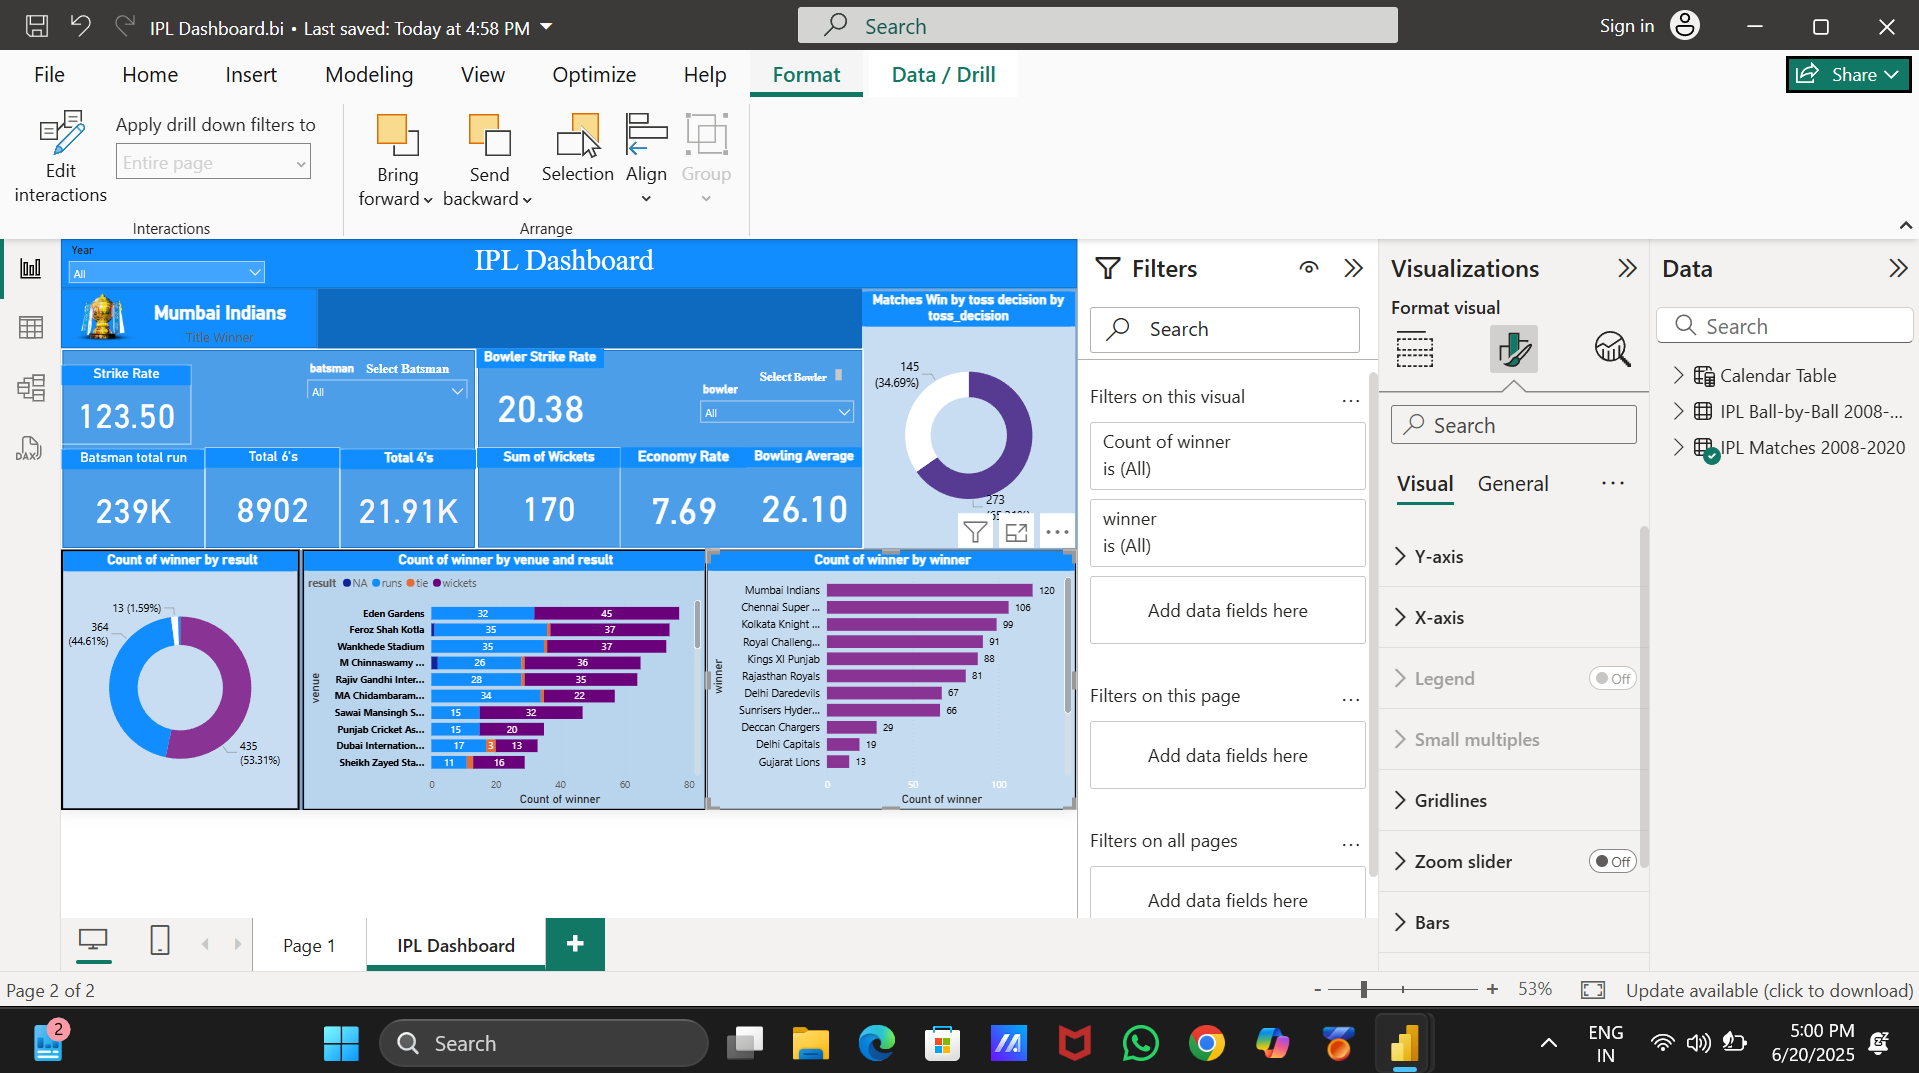

What the dashboard file says about the page in this screenshot:
{"tool":"powerbi","page":{"name":"IPL Dashboard","canvas":[1280,720],"ordinal":1},"visuals":[{"type":"shape","box":[523.3,138.4,488.3,252.9],"z":0},{"type":"shape","box":[0,138,523.5,253.2],"z":1000},{"type":"shape","box":[0,62,322.9,74.8],"z":2000},{"type":"shape","box":[0,0,1280.4,62],"z":3000},{"type":"textbox","box":[359.5,0,548.8,62],"z":4000},{"type":"slicer","fields":{"Values":["Calendar Table.Year"]},"box":[0,0,266.5,62.4],"z":5000},{"type":"card","fields":{"Values":["Calendar Table.Title Winner"]},"box":[77.9,65.2,245,71.6],"z":6000},{"type":"image","box":[0,31.8,103.4,138.4],"z":7000},{"type":"textbox","box":[368.5,149.3,136.1,39.7],"z":8000},{"type":"slicer","fields":{"Values":["IPL Ball-by-Ball 2008-2020.batsman"]},"box":[300.5,149.3,221.1,51],"z":9000},{"type":"slicer","fields":{"Values":["IPL Ball-by-Ball 2008-2020.bowler"]},"box":[795.3,176.6,213.1,62],"z":10000},{"type":"textbox","box":[863.6,158.7,124.7,24.6],"z":11000},{"type":"card","title":"Batsman total run","fields":{"Values":["Calendar Table.Batsman Total Run"]},"box":[0,264,181.3,127.2],"z":12000},{"type":"card","title":"Total 6''s","fields":{"Values":["CountNonNull(IPL Ball-by-Ball 2008-2020.batsman_runs)"]},"box":[181.3,262.5,170.2,128.8],"z":13000},{"type":"card","title":"Total 4''s","fields":{"Values":["CountNonNull(IPL Ball-by-Ball 2008-2020.batsman_runs)"]},"box":[351.5,264,171.8,127.2],"z":14000},{"type":"card","title":"Strike Rate","fields":{"Values":["Calendar Table.Strike Rate"]},"box":[0,159.1,163.8,100.2],"z":15000},{"type":"card","title":"Sum of Wickets","fields":{"Values":["Sum(IPL Ball-by-Ball 2008-2020.is_wicket)"]},"box":[523.3,262.5,181.3,127.2],"z":16000},{"type":"card","title":"Economy Rate","fields":{"Values":["Calendar Table.Bowler Economy Rate"]},"box":[704.6,262.5,159.1,128.8],"z":17000},{"type":"card","title":"Bowling Average","fields":{"Values":["Calendar Table.Bowler1"]},"box":[863.6,262.7,145.5,122.8],"z":18000},{"type":"card","title":"Bowler Strike Rate","fields":{"Values":["Calendar Table.Bowler Strike Rate"]},"box":[523.5,138,160.6,120.9],"z":19000},{"type":"donutChart","fields":{"Y":["Calendar Table.Matches Win by toss decision"],"Category":["IPL Matches 2008-2020.toss_decision"]},"box":[1009.1,66.1,268.3,323.2],"z":20000},{"type":"donutChart","fields":{"Y":["CountNonNull(IPL Matches 2008-2020.winner)"],"Category":["IPL Matches 2008-2020.result"]},"box":[0,391.2,300.5,328.8],"z":21000},{"type":"barChart","fields":{"Series":["IPL Matches 2008-2020.result"],"Y":["CountNonNull(IPL Matches 2008-2020.winner)"],"Category":["IPL Matches 2008-2020.venue"]},"box":[304.3,391.2,508.4,328.8],"z":22000},{"type":"clusteredBarChart","fields":{"Y":["CountNonNull(IPL Matches 2008-2020.winner)"],"Category":["IPL Matches 2008-2020.winner"]},"box":[812.6,391.2,466.8,328.8],"z":23000},{"type":"textbox","box":[323.2,62.4,686,75.6],"z":23001}]}

Visuals, with their boxes on the page's 1280x720 design canvas (x1, y1, x2, y2). These are canvas units, not pixel positions in the 1919x1073 screenshot, which may show the page scaled, cropped or inside an application window:
shape: 523/138/1012/391
shape: 0/138/524/391
shape: 0/62/323/137
shape: 0/0/1280/62
textbox: 360/0/908/62
slicer - Calendar Table.Year: 0/0/266/62
card - Calendar Table.Title Winner: 78/65/323/137
image: 0/32/103/170
textbox: 368/149/505/189
slicer - IPL Ball-by-Ball 2008-2020.batsman: 300/149/522/200
slicer - IPL Ball-by-Ball 2008-2020.bowler: 795/177/1008/239
textbox: 864/159/988/183
"Batsman total run" card: 0/264/181/391
"Total 6''s" card: 181/262/352/391
"Total 4''s" card: 352/264/523/391
"Strike Rate" card: 0/159/164/259
"Sum of Wickets" card: 523/262/705/390
"Economy Rate" card: 705/262/864/391
"Bowling Average" card: 864/263/1009/386
"Bowler Strike Rate" card: 524/138/684/259
donutChart - Calendar Table.Matches Win by toss decision x IPL Matches 2008-2020.toss_decision: 1009/66/1277/389
donutChart - CountNonNull(IPL Matches 2008-2020.winner) x IPL Matches 2008-2020.result: 0/391/300/720
barChart - IPL Matches 2008-2020.result x CountNonNull(IPL Matches 2008-2020.winner): 304/391/813/720
clusteredBarChart - CountNonNull(IPL Matches 2008-2020.winner) x IPL Matches 2008-2020.winner: 813/391/1279/720
textbox: 323/62/1009/138
